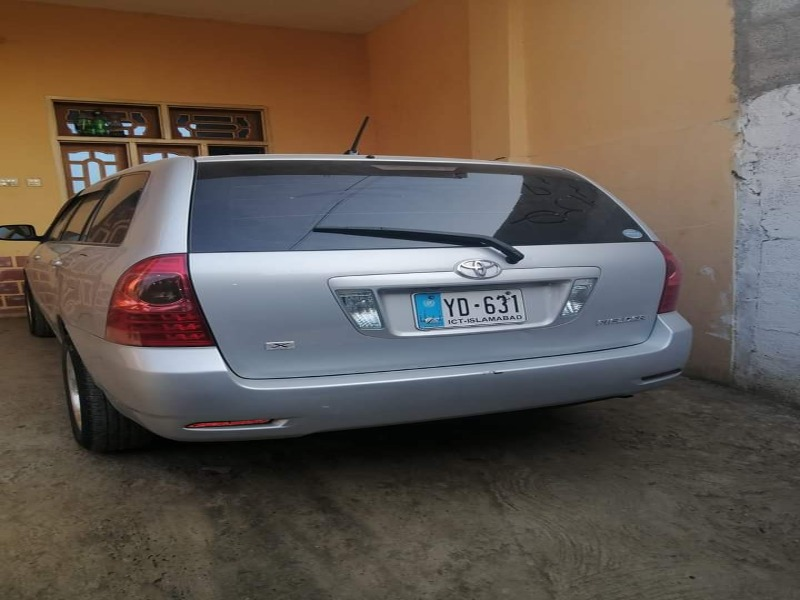License Plate: (409, 284, 534, 331)
